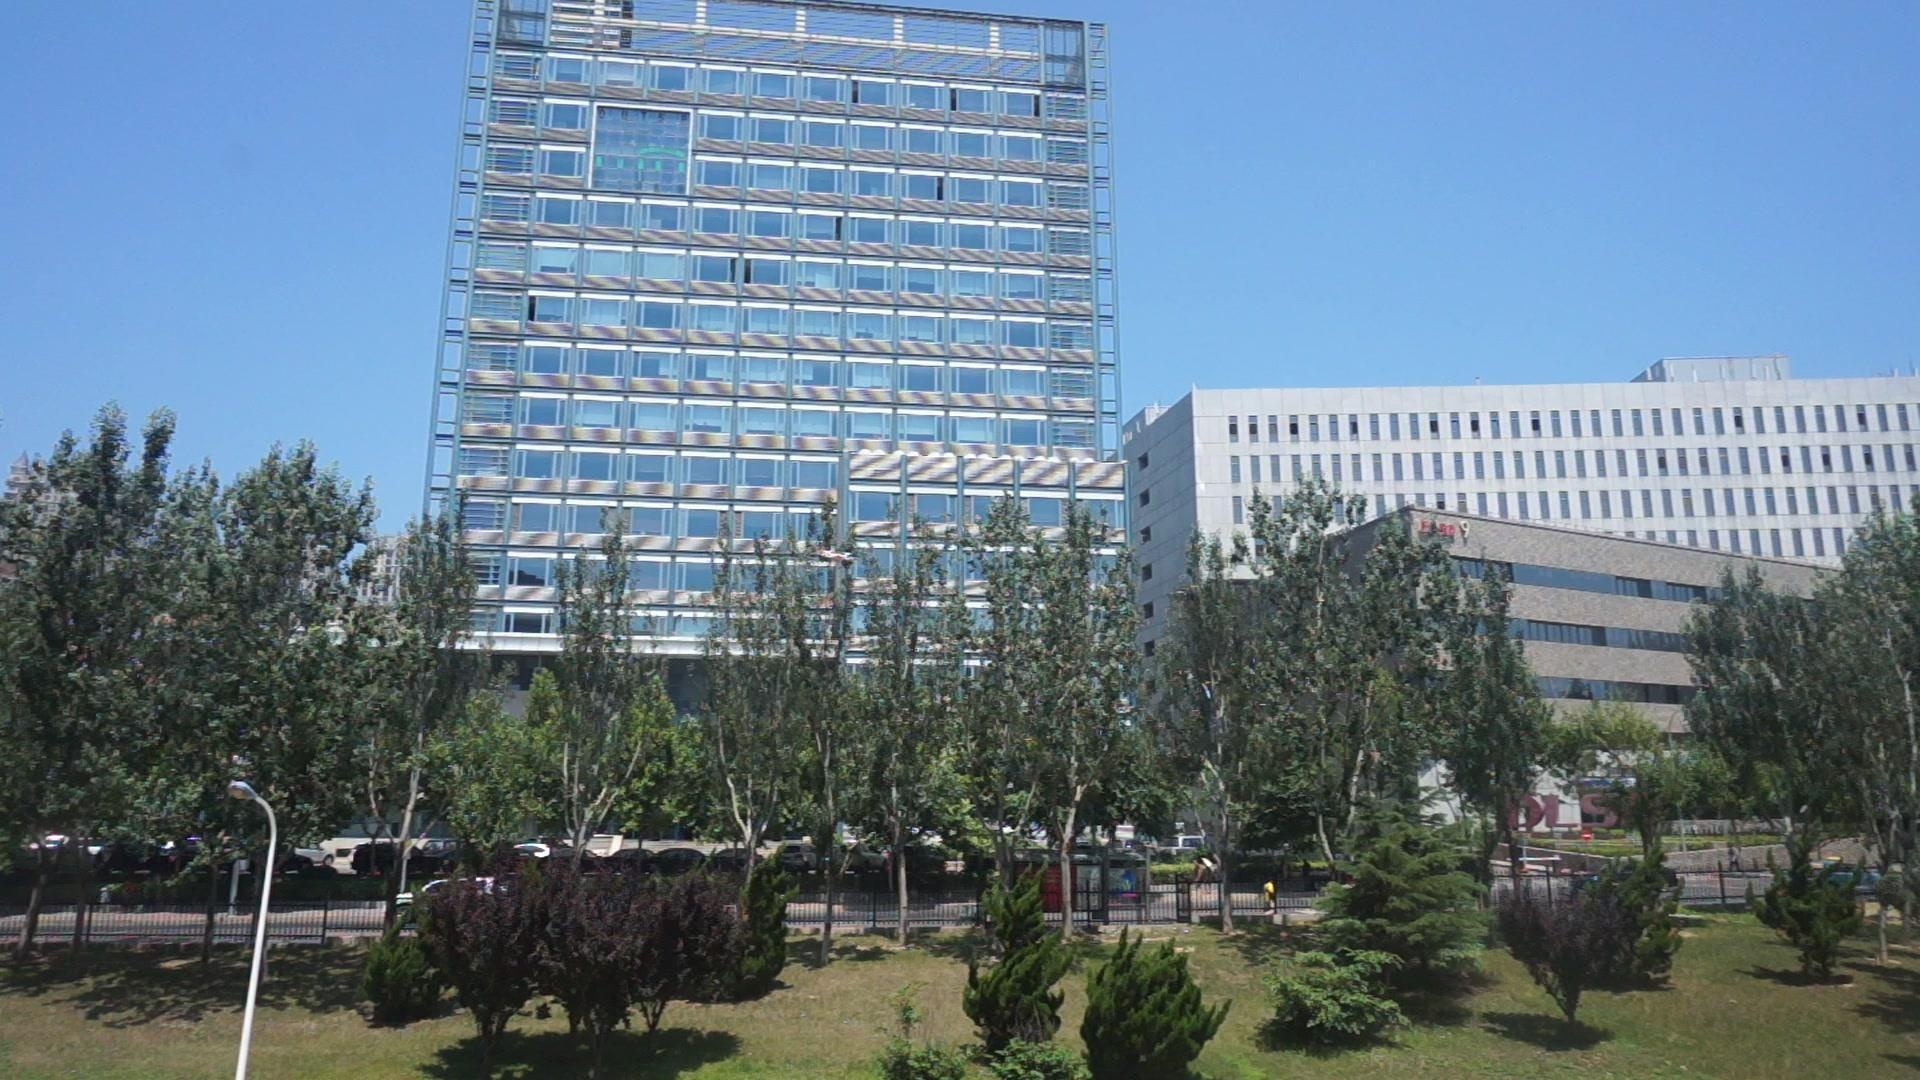UAV: (814, 545, 857, 568)
